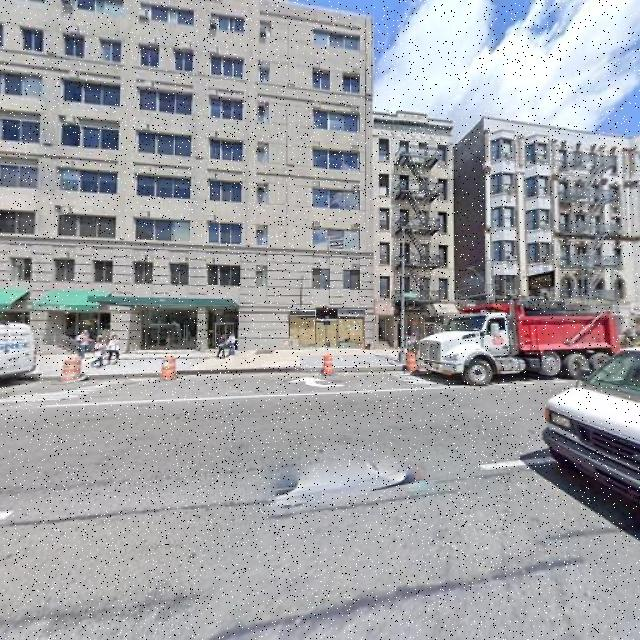Building: (1, 1, 372, 350), (489, 124, 640, 342)
